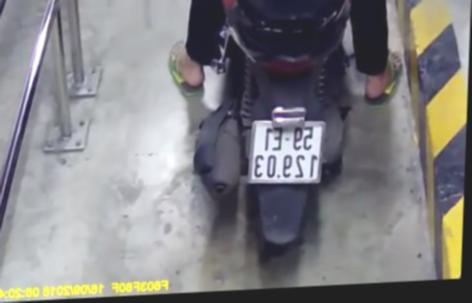License_Plate: (233, 115, 333, 189)
